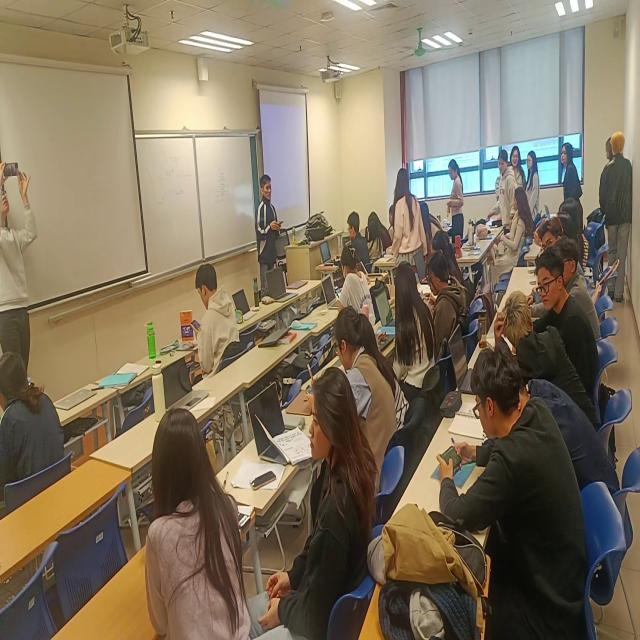raise_head: (139, 399, 256, 640), (506, 186, 530, 271), (559, 195, 586, 241)
read: (368, 204, 387, 260)
stand: (1, 144, 42, 360), (600, 129, 634, 302), (253, 171, 282, 297), (391, 165, 428, 263), (445, 153, 467, 242), (559, 144, 586, 207), (496, 148, 517, 225), (525, 149, 543, 221), (511, 143, 527, 191), (605, 135, 615, 166)
using_computer: (1, 351, 70, 508), (323, 242, 376, 316), (423, 252, 462, 340), (416, 223, 471, 285), (347, 206, 371, 266)
using_phone: (435, 343, 589, 627), (307, 304, 401, 445), (184, 257, 241, 372)
